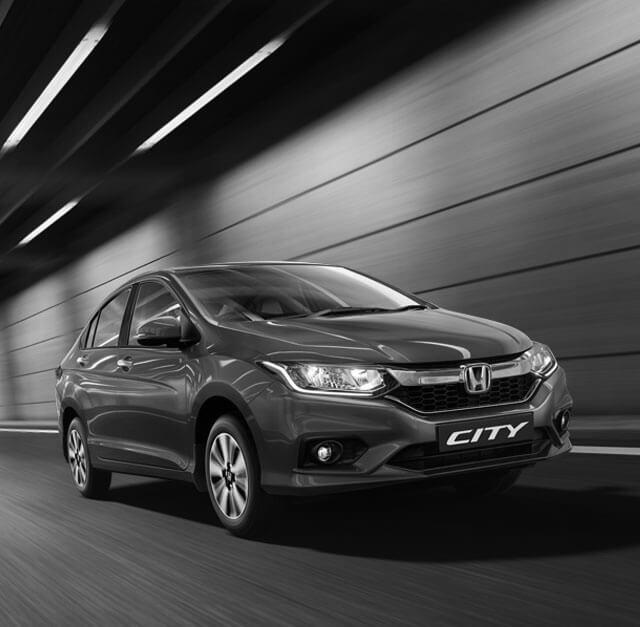Car hood: (211, 307, 534, 367)
Driver-s door - -F-R-: (115, 271, 196, 493)
Fender - -F-R-: (178, 358, 273, 421)
Fender - -R-R-: (52, 378, 91, 414)
Front bumper: (241, 361, 577, 496)
Headlight - -L-: (518, 339, 560, 381)
Headlight - -R-: (254, 357, 397, 401)
Passenger-s door - -R-R-: (80, 277, 131, 490)
Rear bumper: (44, 379, 74, 454)
Rear light - -R-: (50, 364, 74, 384)
Side bumper - -R-: (79, 436, 207, 495)
Side mirror - -R-: (135, 316, 189, 355)
